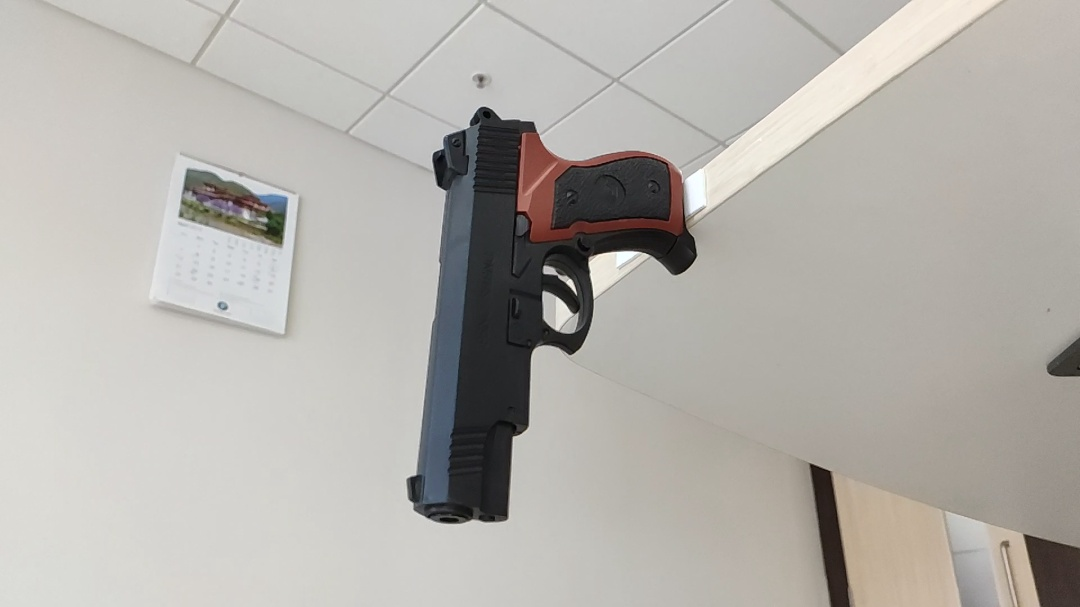gun: (401, 105, 698, 531)
